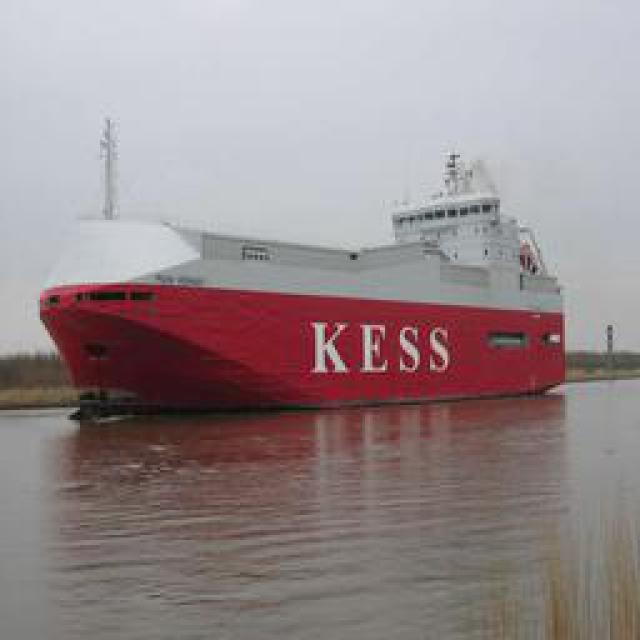Ship: (41, 155, 571, 413)
